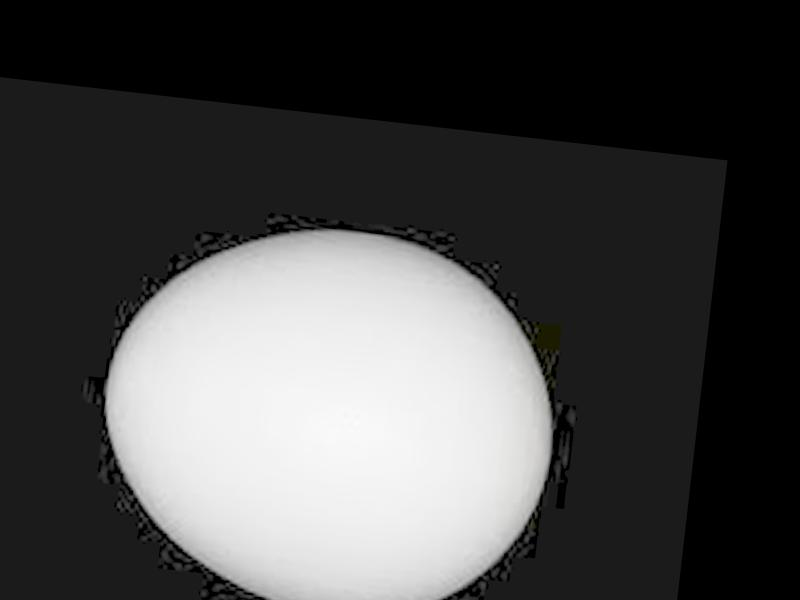Eggs: (88, 206, 570, 600)
